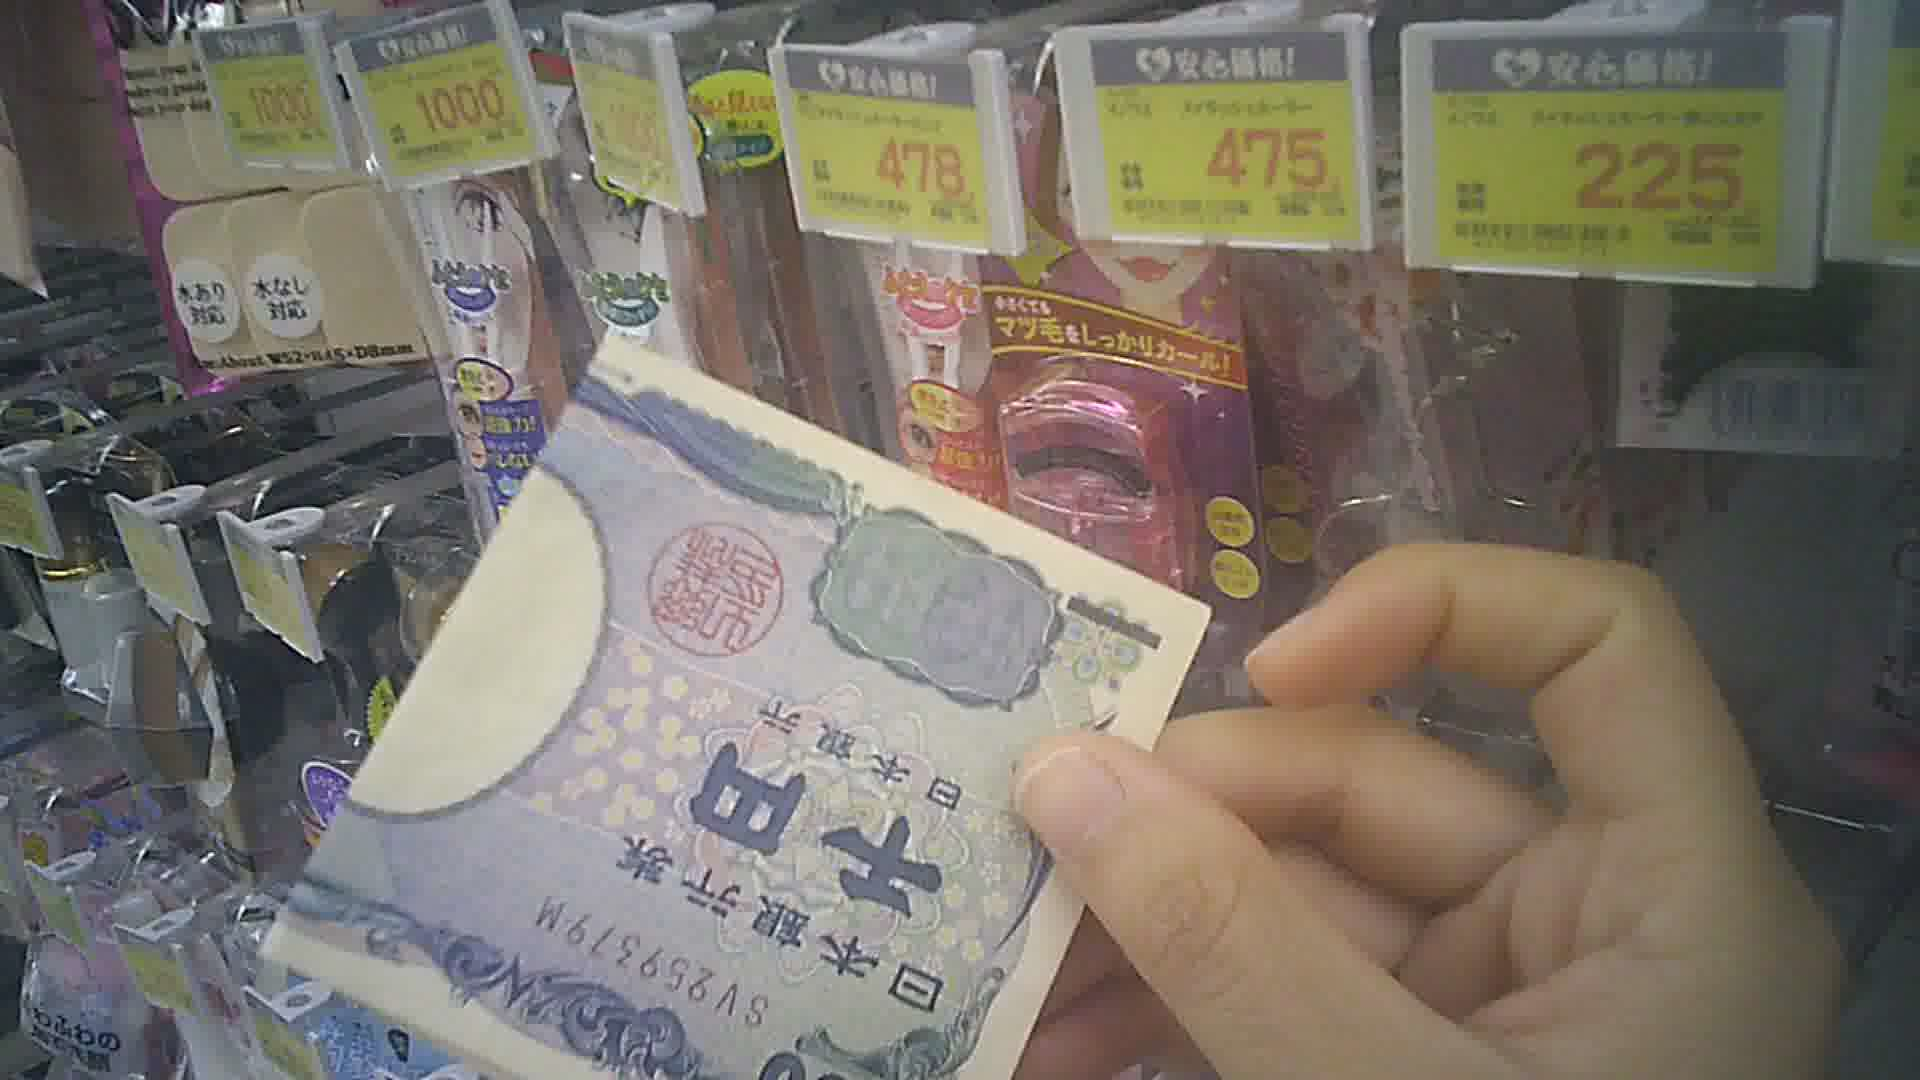1,000 Yen: (270, 311, 1178, 1079)
